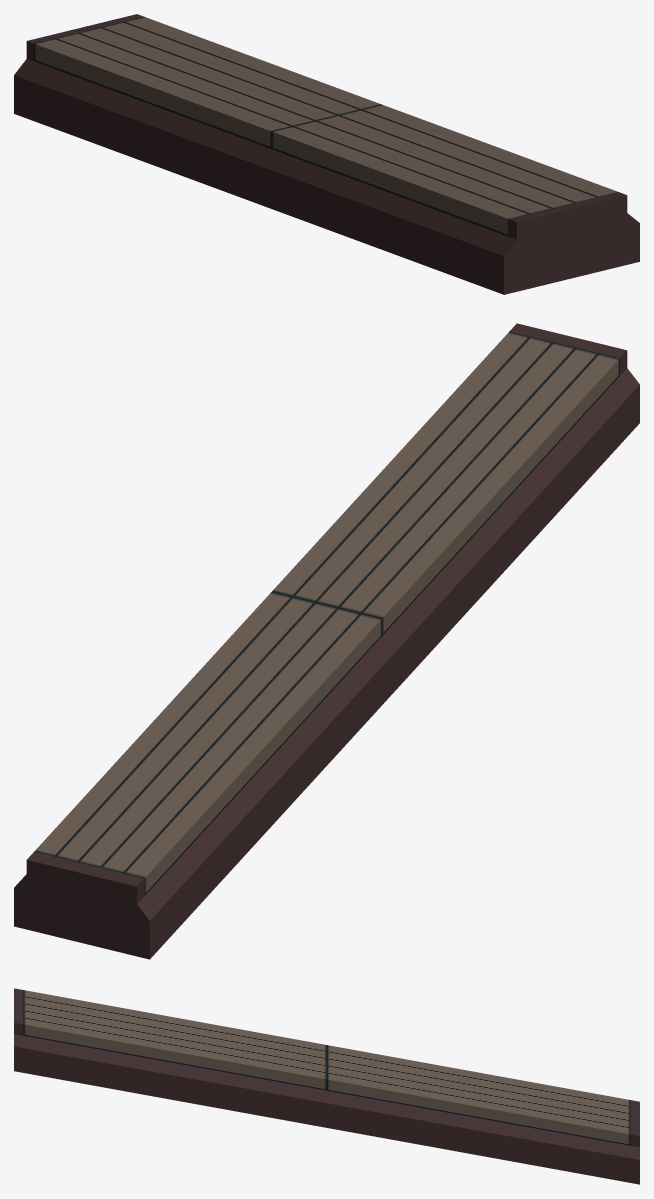
Rendered from SW_ENV_EL_TrackBase_Walkway_Central_Rise_10m.fbx.
The picture shows the model from 3 angles, top to bottom: view 1: azimuth 30°, elevation 25°; view 2: azimuth 150°, elevation 25°; view 3: azimuth 270°, elevation 25°; orthographic projection. The views are drawn at different scales.
Visible parts, largest first — view 1: SW_ENV_EL_TrackBase_Walkway_Central_Rise_10m; view 2: SW_ENV_EL_TrackBase_Walkway_Central_Rise_10m; view 3: SW_ENV_EL_TrackBase_Walkway_Central_Rise_10m.
Boxes of the visible parts, left/top/right/bottom form: SW_ENV_EL_TrackBase_Walkway_Central_Rise_10m: left=14, top=14, right=639, bottom=294; SW_ENV_EL_TrackBase_Walkway_Central_Rise_10m: left=14, top=323, right=639, bottom=959; SW_ENV_EL_TrackBase_Walkway_Central_Rise_10m: left=14, top=988, right=639, bottom=1184.
Size of the model in its own units: 160 by 278 by 1000.
